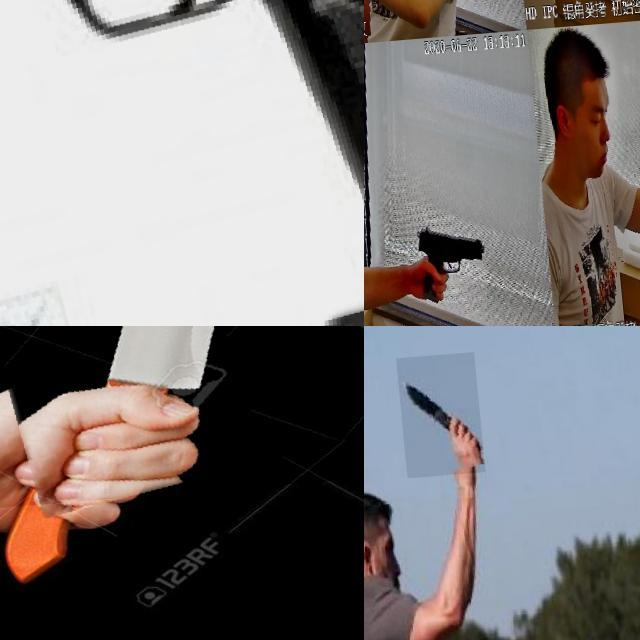-: (0, 326, 360, 573), (392, 359, 480, 484)
gun-knife-thesis - v11 Yolov5 augmented: (0, 0, 364, 326), (400, 225, 478, 312), (364, 0, 391, 69)
